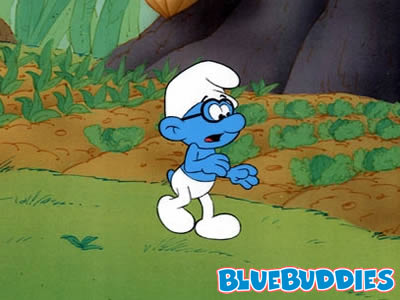smurf: (155, 61, 257, 240)
